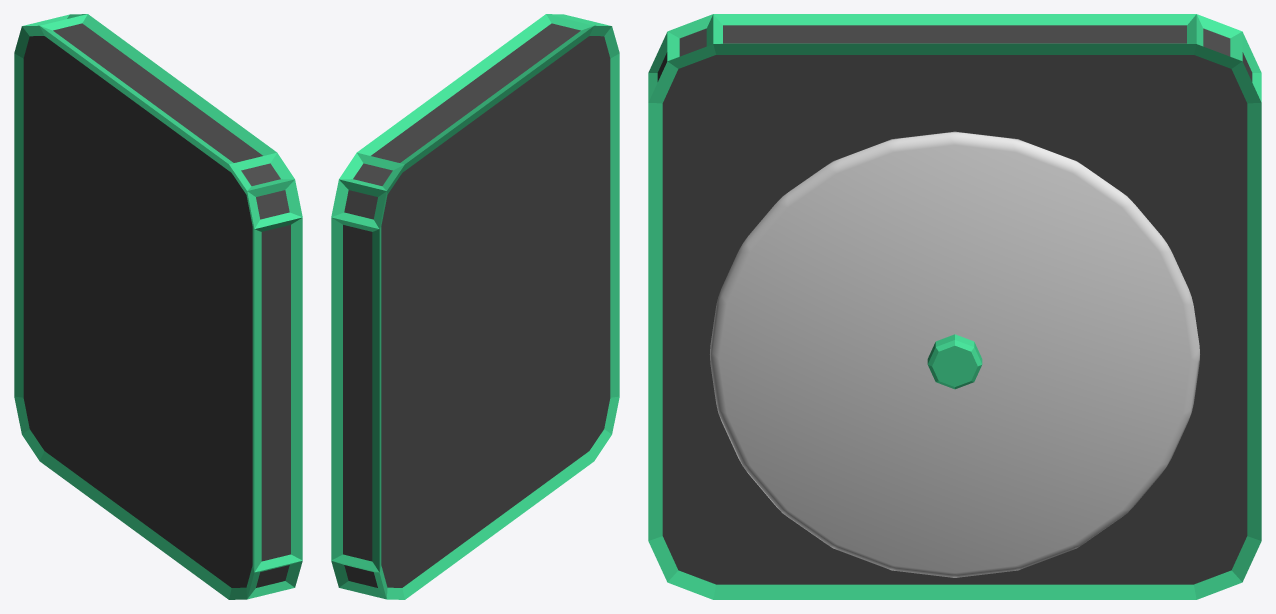
Rendered from Target.fbx.
3 renders of one model, left to right at view 1: azimuth 30°, elevation 25°; view 2: azimuth 150°, elevation 25°; view 3: azimuth 270°, elevation 25°, orthographic. The views are drawn at different scales.
Parts seen in each view (by area): view 1: Cube; view 2: Cube; view 3: Cube, Cylinder, Cone.
Boxes of the visible parts, x1,y1,x2,y2 form: Cube: (14, 14, 302, 599); Cube: (331, 14, 619, 599); Cube: (648, 14, 1261, 599); Cylinder: (710, 131, 1199, 577); Cone: (927, 334, 982, 389).
Bounding box in the file's own units: 34.43 × 180 × 180.
